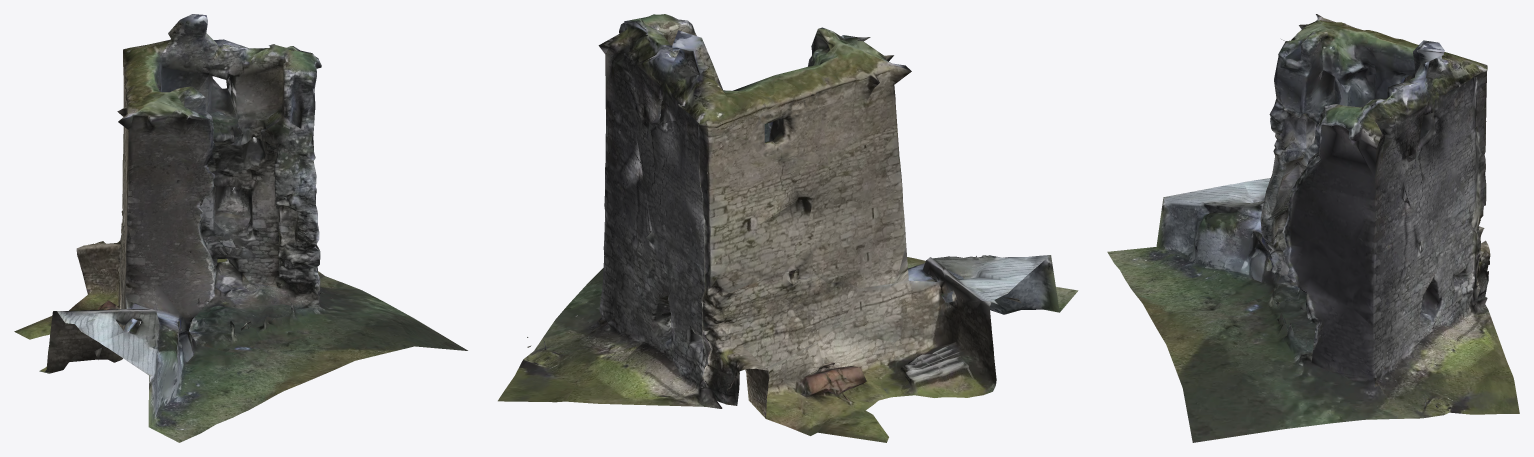
Rendered from tower_ruin.glb.
3 renders of one model, left to right at view 1: azimuth 30°, elevation 25°; view 2: azimuth 150°, elevation 25°; view 3: azimuth 270°, elevation 25°, orthographic. The views are drawn at different scales.
Visible parts, largest first — view 1: Object_2; view 2: Object_2; view 3: Object_2.
Part boxes in pixels (x1=…): Object_2: x1=14, y1=14, x2=467, y2=442; Object_2: x1=498, y1=14, x2=1078, y2=442; Object_2: x1=1107, y1=14, x2=1519, y2=442.
Bounding box in the file's own units: 23.25 × 17.91 × 21.28.
Materials: 1 (1 with a texture image).
